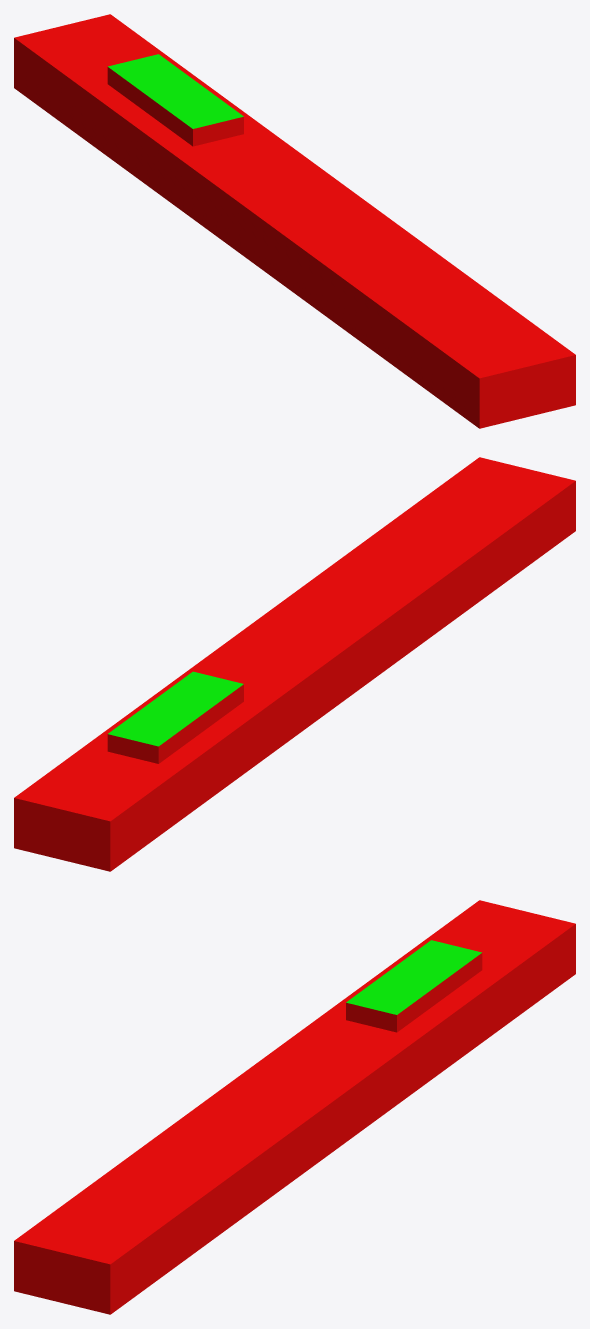
The model's file is labeled.obj.
The picture shows the model from 3 angles, top to bottom: view 1: azimuth 30°, elevation 25°; view 2: azimuth 150°, elevation 25°; view 3: azimuth 330°, elevation 25°; orthographic projection.
Bounding box in the file's own units: 0.0183 × 0.0123 × 0.1532.
